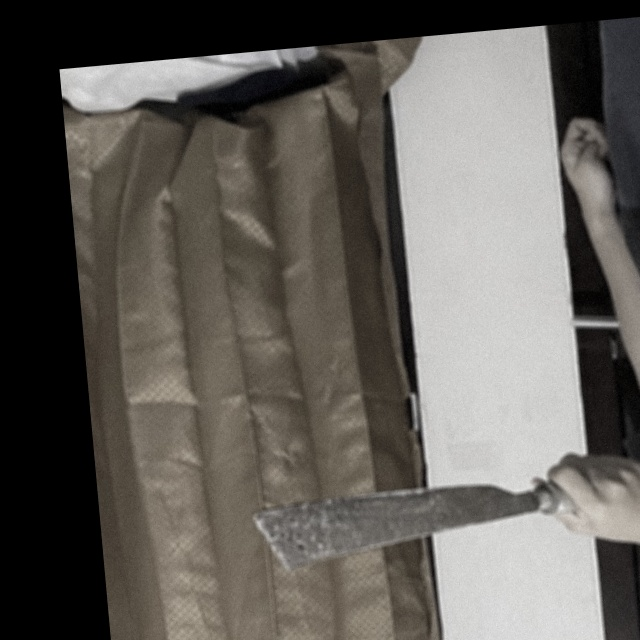Sharp-Object: (247, 472, 586, 577)
